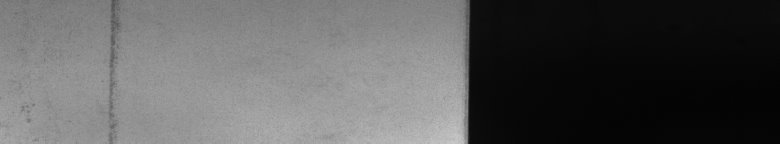hd: (101, 4, 121, 136)
